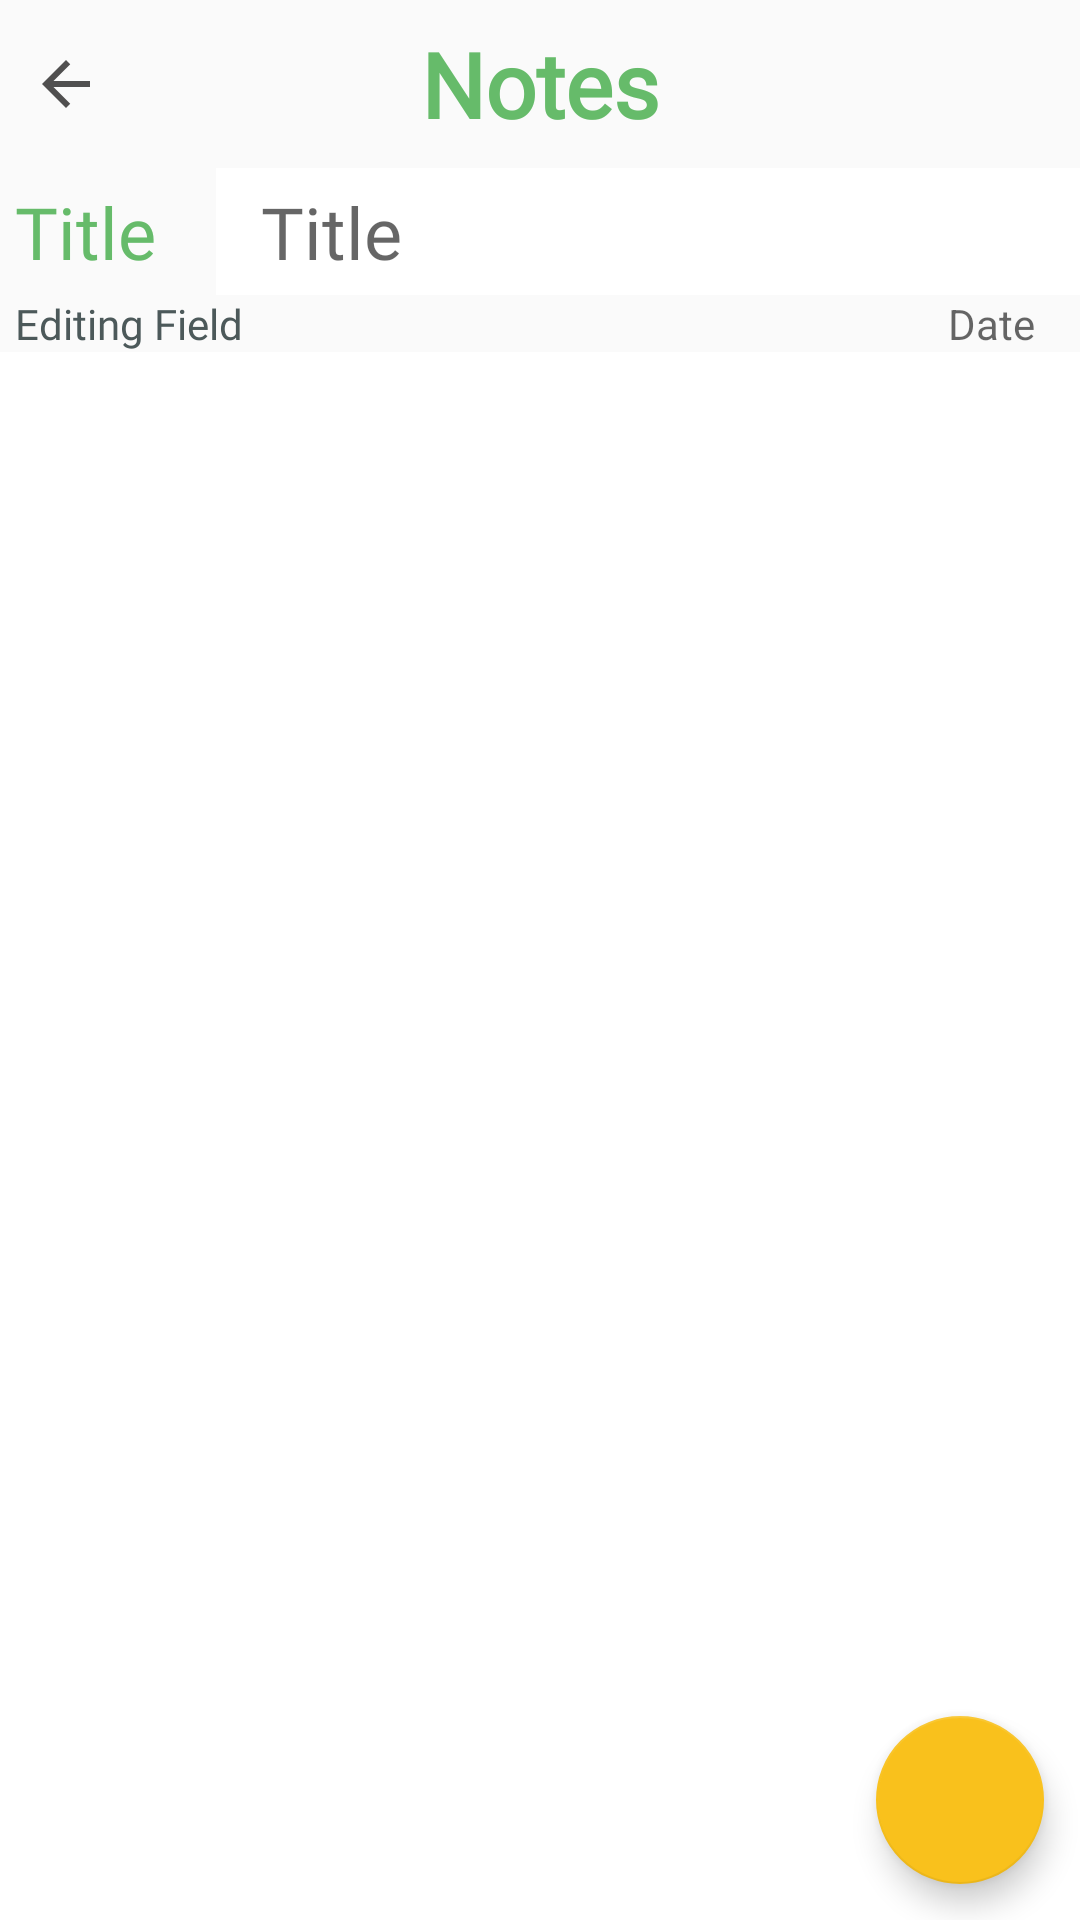

Where icons sit on this 1080 × 1920 app screen, as (x1,y1,x2,y2):
arrow back: (42,60,90,108)
